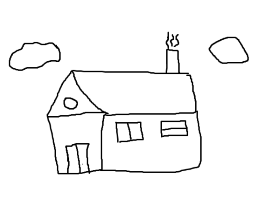closed_window: (115, 120, 144, 141), (161, 120, 188, 137)
clouds: (8, 41, 62, 70), (207, 35, 249, 65)
door: (62, 139, 95, 180)
roof: (47, 70, 197, 116)
smoking_chimney: (159, 26, 187, 77)
wall: (95, 109, 202, 176)
